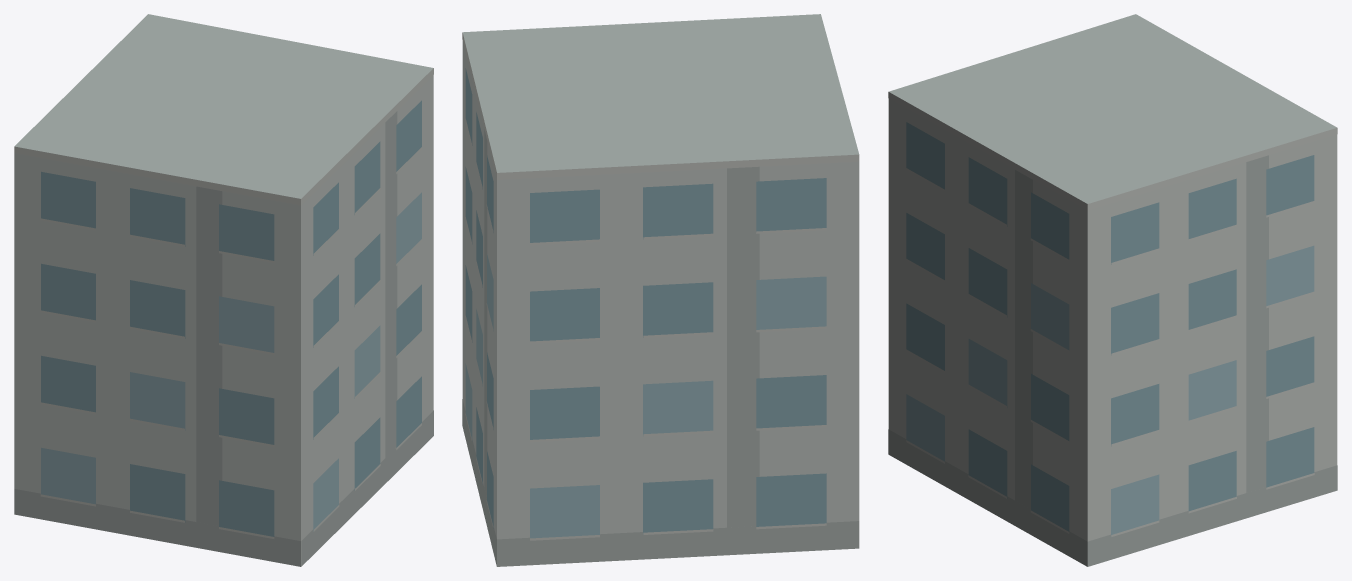
Rendered from residential-b8de0293-e8c1-4b18-98bf-af594ca8222c.glb.
3 renders of one model, left to right at view 1: azimuth 30°, elevation 25°; view 2: azimuth 150°, elevation 25°; view 3: azimuth 270°, elevation 25°, orthographic. The views are drawn at different scales.
Parts seen in each view (by area): view 1: residential-b8de0293-e8c1-4b18-98bf-af594ca8222c.tmp; view 2: residential-b8de0293-e8c1-4b18-98bf-af594ca8222c.tmp; view 3: residential-b8de0293-e8c1-4b18-98bf-af594ca8222c.tmp.
Part boxes in pixels (bbox=[...]): residential-b8de0293-e8c1-4b18-98bf-af594ca8222c.tmp: bbox=[14, 14, 433, 566]; residential-b8de0293-e8c1-4b18-98bf-af594ca8222c.tmp: bbox=[462, 14, 859, 566]; residential-b8de0293-e8c1-4b18-98bf-af594ca8222c.tmp: bbox=[888, 14, 1337, 566].
Bounding box in the file's own units: 15.06 × 13.4 × 15.04.
